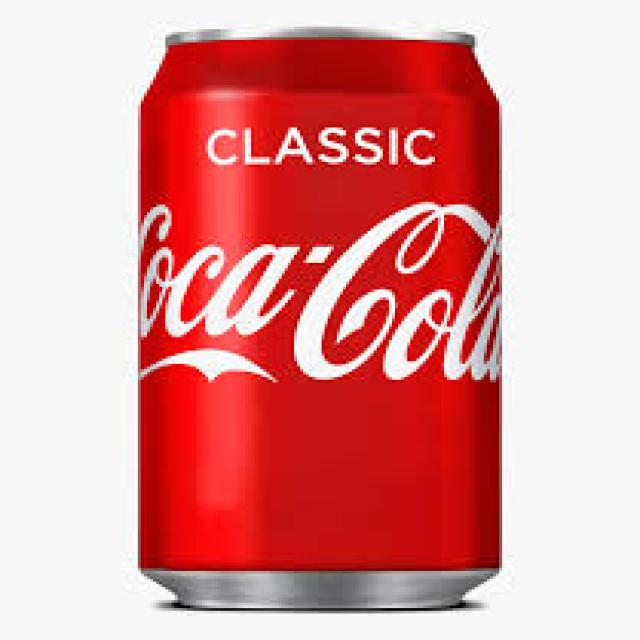aluminum_can: (141, 29, 502, 611)
